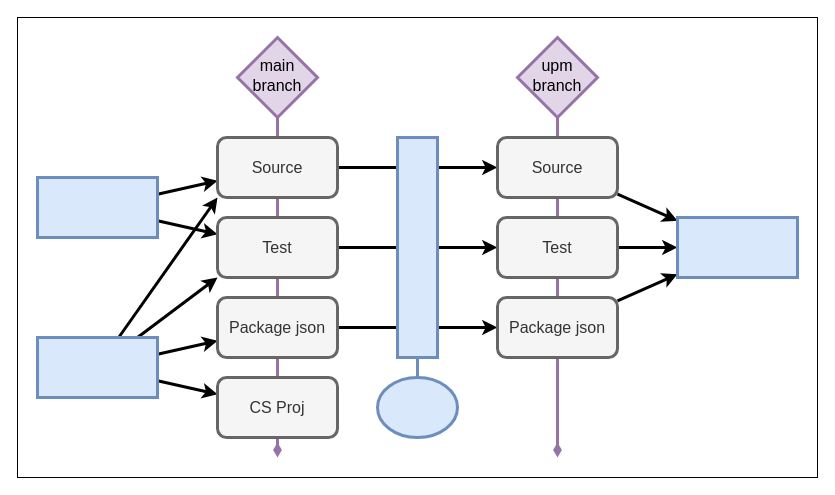
Some shapes in this 835 by 495 pixel diagram are drawn without their labels. The centre of each missing label's shape, as x and y in pixels:
Github Action: the point at 417,247
Import package in Unity: the point at 737,247
Push on main: the point at 417,407
Source and Test Development: the point at 97,207
Unity metadata: the point at 97,367
